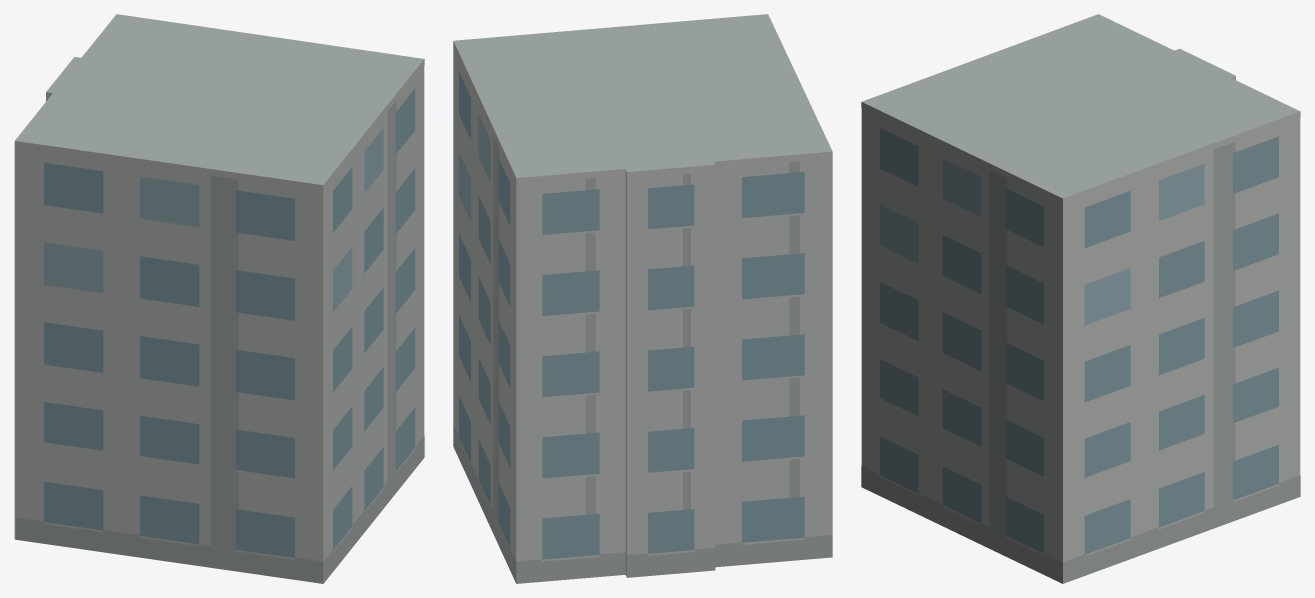
Rendered from survey-upis-32850327.glb.
3 renders of one model, left to right at view 1: azimuth 30°, elevation 25°; view 2: azimuth 150°, elevation 25°; view 3: azimuth 270°, elevation 25°, orthographic. The views are drawn at different scales.
Parts seen in each view (by area): view 1: survey-upis-32850327.tmp; view 2: survey-upis-32850327.tmp; view 3: survey-upis-32850327.tmp.
Part boxes in pixels (x1,y1,x2,y2): survey-upis-32850327.tmp: [14, 14, 424, 583]; survey-upis-32850327.tmp: [453, 14, 832, 583]; survey-upis-32850327.tmp: [861, 14, 1300, 583].
Size of the model in its own units: 15.1 by 14.7 by 15.18.
